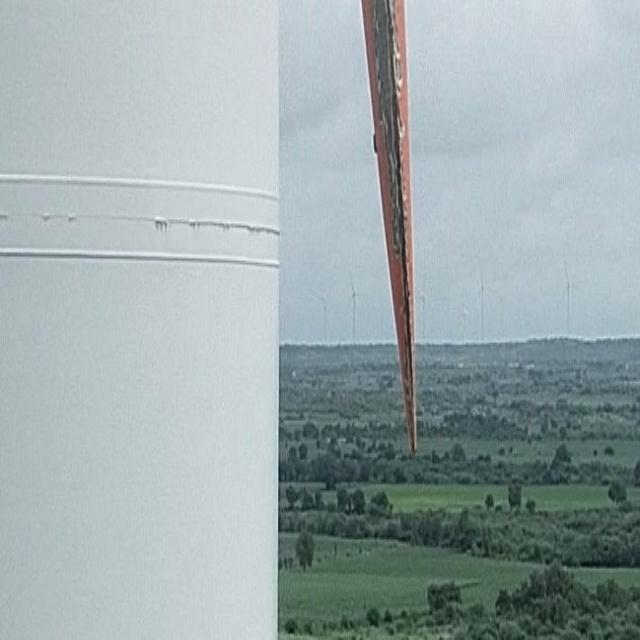EROSION: (378, 178, 432, 363)
